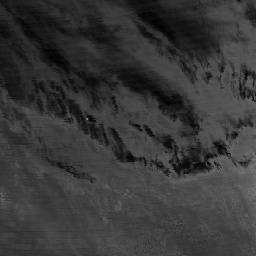Target: (85, 115, 89, 121)
